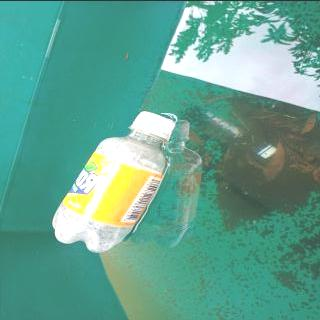bottle: (49, 109, 178, 253)
